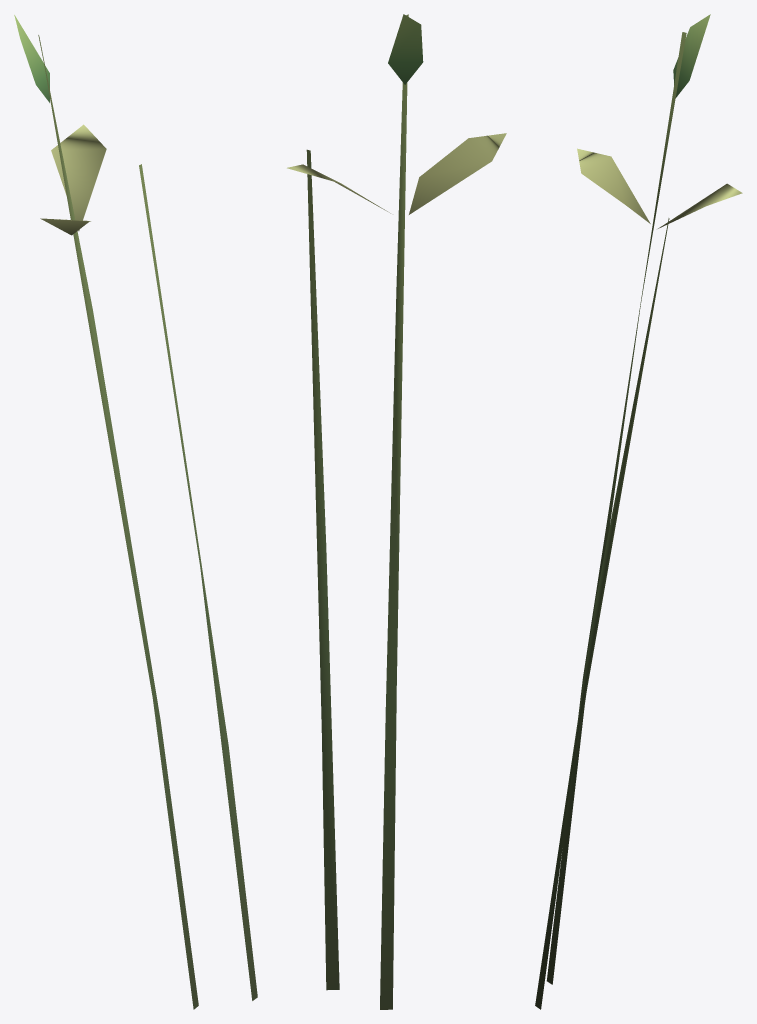
File: RagweedSprig_LOD3.glb
3 views of the same model, side by side, from view 1: azimuth 30°, elevation 25°; view 2: azimuth 150°, elevation 25°; view 3: azimuth 270°, elevation 25° (orthographic). The views are drawn at different scales.
Parts seen in each view (by area): view 1: RagweedSprig_LOD3; view 2: RagweedSprig_LOD3; view 3: RagweedSprig_LOD3.
Boxes of the visible parts, left/top/right/bottom form: RagweedSprig_LOD3: left=14, top=15, right=257, bottom=1009; RagweedSprig_LOD3: left=287, top=14, right=506, bottom=1009; RagweedSprig_LOD3: left=535, top=14, right=742, bottom=1009.
Size of the model in its own units: 0.0659 by 0.3317 by 0.0677.
